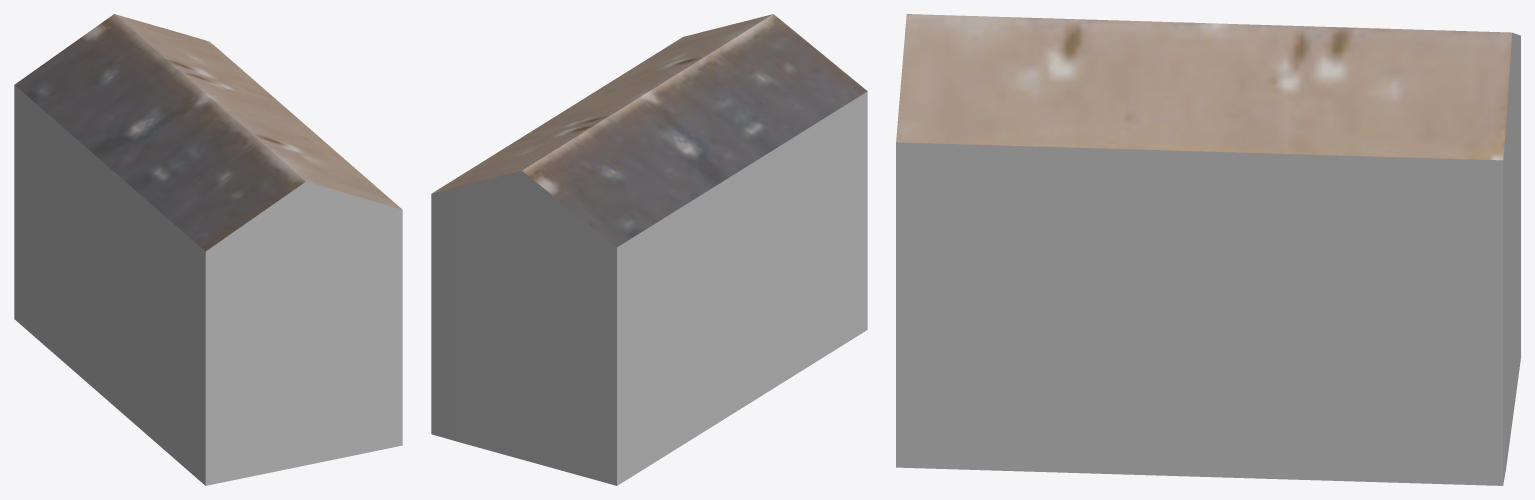
File: DEBW_0010007Txi9.gltf
3 views of the same model, side by side, from view 1: azimuth 30°, elevation 25°; view 2: azimuth 150°, elevation 25°; view 3: azimuth 270°, elevation 25° (orthographic). The views are drawn at different scales.
Visible parts, largest first — view 1: Z_UP; view 2: Z_UP; view 3: Z_UP.
Boxes of the visible parts, left/top/right/bottom form: Z_UP: left=14, top=14, right=402, bottom=485; Z_UP: left=431, top=14, right=867, bottom=485; Z_UP: left=896, top=14, right=1520, bottom=485.
Size of the model in its own units: 12.6 by 15.78 by 22.84.
2 materials, 1 textured.
